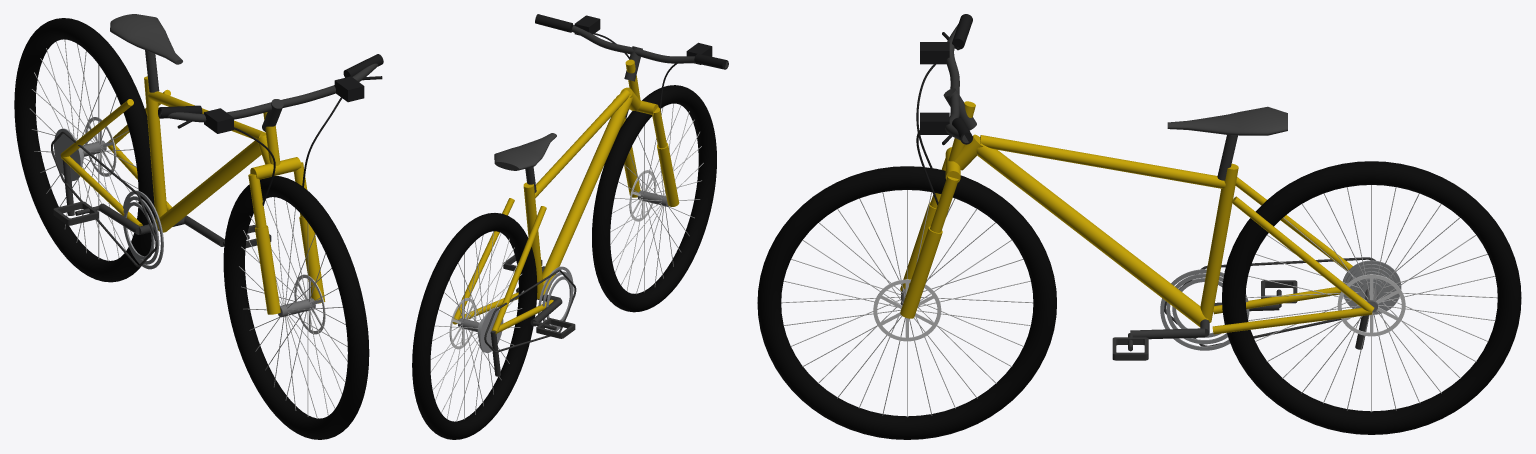
The model's file is mountain_bike__a4c57cc4d44f.glb.
3 renders of one model, left to right at view 1: azimuth 30°, elevation 25°; view 2: azimuth 150°, elevation 25°; view 3: azimuth 270°, elevation 25°, orthographic. The views are drawn at different scales.
Parts seen in each view (by area): view 1: tire.001, tire, down_tube, seat, seat_tube, bar, fork_lower, fork_lower.001, chain, chain_stay, top_tube, seat_stay (+18 smaller); view 2: tire.001, tire, down_tube, top_tube, seat, bar, seat_stay, seat_tube, fork_lower, seat_stay.001, chain, sprocket (+7 smaller); view 3: tire.001, tire, down_tube, top_tube, seat, seat_tube, seat_stay.001, fork_lower.001, chain_stay.001, seat_stay, bar, chain_stay (+3 smaller).
Part boxes in pixels (x1,y1,x2,y2): tire.001: (223,176,369,439); tire: (14,18,155,282); down_tube: (156,140,261,232); seat: (110,14,182,64); seat_tube: (144,76,167,221); bar: (159,63,378,122); fork_lower: (255,225,280,314); fork_lower.001: (299,216,325,303); chain: (51,131,157,267); chain_stay: (61,156,142,226); top_tube: (148,91,265,138); seat_stay: (60,99,133,156); tire.001: (592,85,716,312); tire: (412,213,537,439); down_tube: (542,95,633,294); top_tube: (535,89,630,197); seat: (494,133,556,170); bar: (572,24,728,68); seat_stay: (491,206,546,331); seat_tube: (523,182,543,299); fork_lower: (657,143,679,206); seat_stay.001: (453,198,514,319); chain: (484,269,576,352); sprocket: (479,308,503,352); tire.001: (757,166,1056,439); tire: (1222,161,1521,434); down_tube: (976,143,1208,326); top_tube: (980,135,1225,188); seat: (1167,106,1287,135); seat_tube: (1200,163,1238,322); seat_stay.001: (1231,196,1374,312); fork_lower.001: (900,226,942,318); chain_stay.001: (1212,308,1372,334); seat_stay: (1235,177,1352,270); bar: (945,24,968,142); chain_stay: (1213,287,1341,314).
Size of the model in its own units: 0.6727 by 0.9509 by 1.8.
